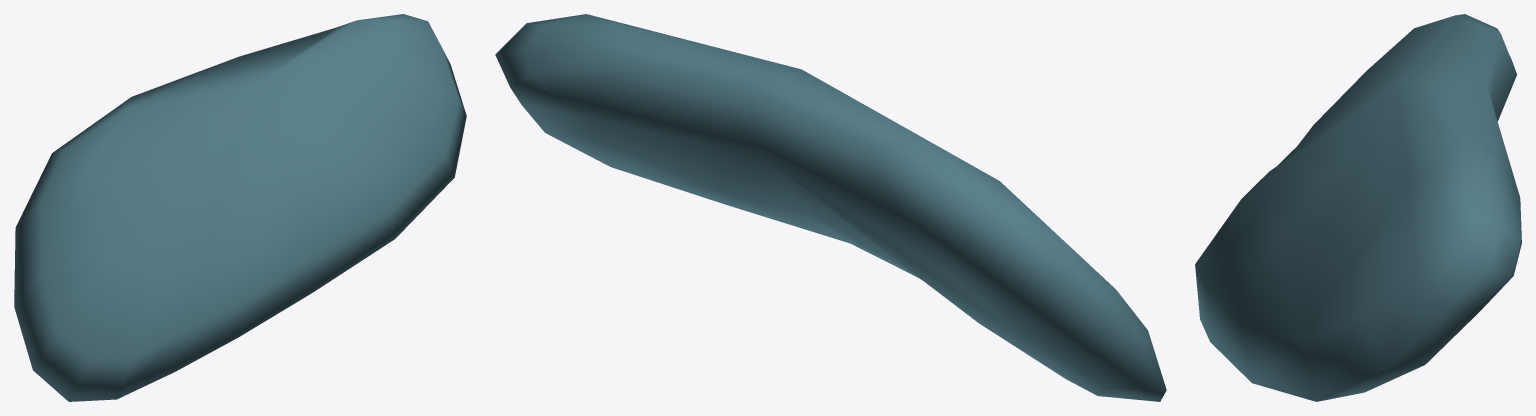
File: Flexor_digitorum_profundus_5th_finger_distal_phalanx_right.glb
3 views of the same model, side by side, from view 1: azimuth 30°, elevation 25°; view 2: azimuth 150°, elevation 25°; view 3: azimuth 270°, elevation 25° (orthographic). The views are drawn at different scales.
Parts seen in each view (by area): view 1: Flexor_digitorum_profundus_on_distal_phalanx_of_5th_finger.r; view 2: Flexor_digitorum_profundus_on_distal_phalanx_of_5th_finger.r; view 3: Flexor_digitorum_profundus_on_distal_phalanx_of_5th_finger.r.
Part boxes in pixels (left/top/right/bottom): Flexor_digitorum_profundus_on_distal_phalanx_of_5th_finger.r: left=14, top=14, right=466, bottom=401; Flexor_digitorum_profundus_on_distal_phalanx_of_5th_finger.r: left=495, top=14, right=1166, bottom=401; Flexor_digitorum_profundus_on_distal_phalanx_of_5th_finger.r: left=1195, top=14, right=1521, bottom=401.
Size of the model in its own units: 0.0032 by 0.00165 by 0.00124.
